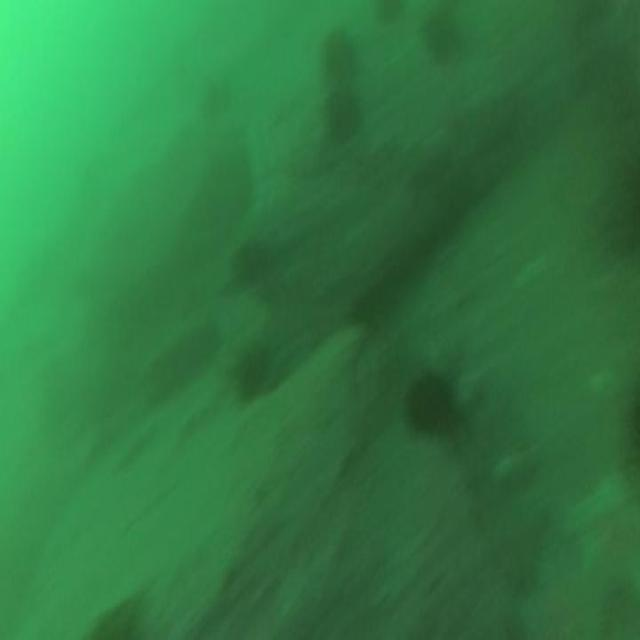echinus: (402, 352, 460, 442), (319, 76, 366, 148), (225, 341, 273, 403), (420, 4, 462, 62), (320, 22, 364, 73)
